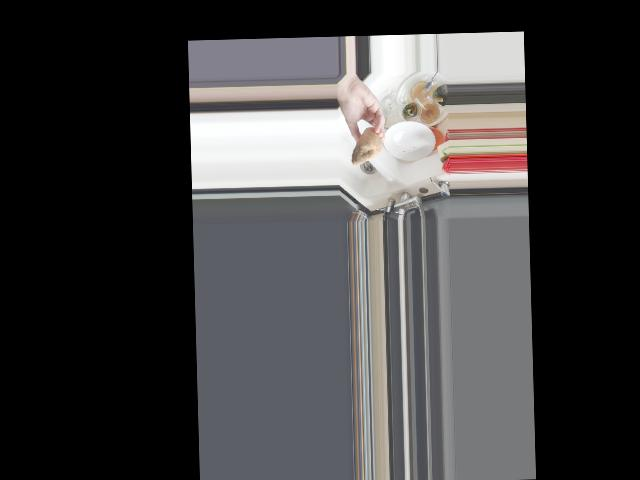sweet_potato: (347, 127, 383, 165)
